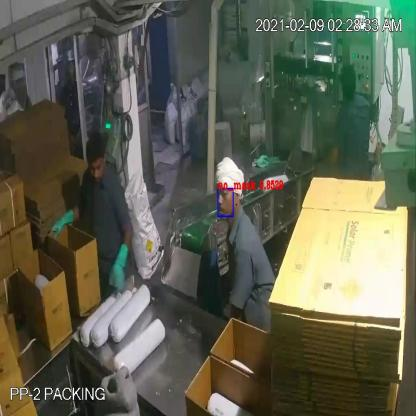glove: (104, 237, 131, 296), (46, 203, 80, 241)
